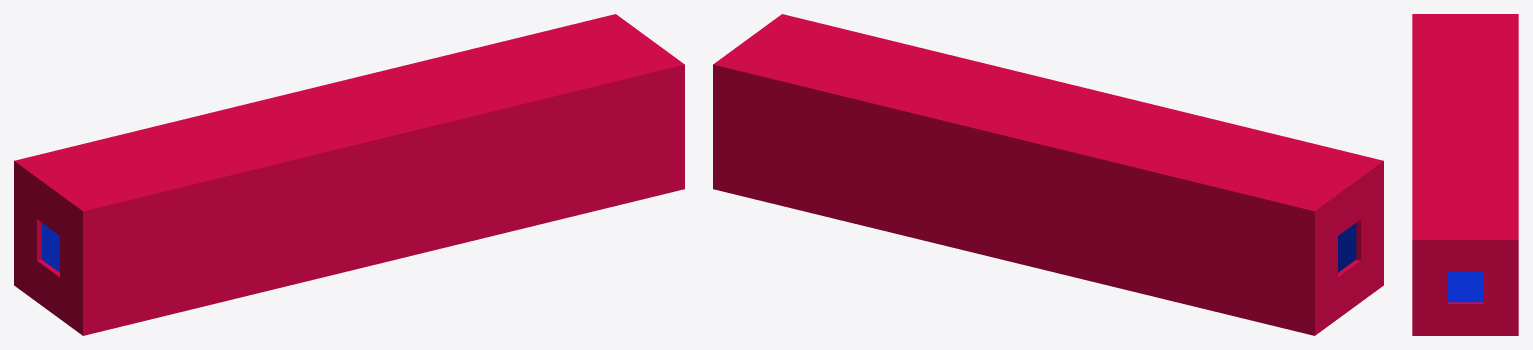
File: Tunnelsquerentrence.fbx
3 renders of one model, left to right at view 1: azimuth 30°, elevation 25°; view 2: azimuth 150°, elevation 25°; view 3: azimuth 270°, elevation 25°, orthographic. The views are drawn at different scales.
Visible parts, largest first — view 1: Cube; view 2: Cube; view 3: Cube.
Boxes of the visible parts, x1,y1,x2,y2 form: Cube: (14,14,684,335); Cube: (713,14,1383,335); Cube: (1412,14,1518,335).
Size of the model in its own units: 2553 by 505 by 507.
